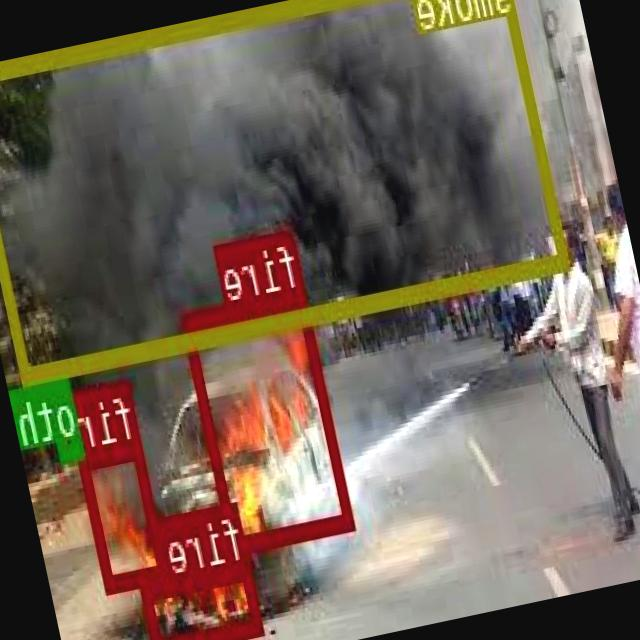fire: (184, 287, 356, 549), (79, 439, 171, 588), (141, 559, 266, 640)
smoke: (0, 0, 569, 379)
